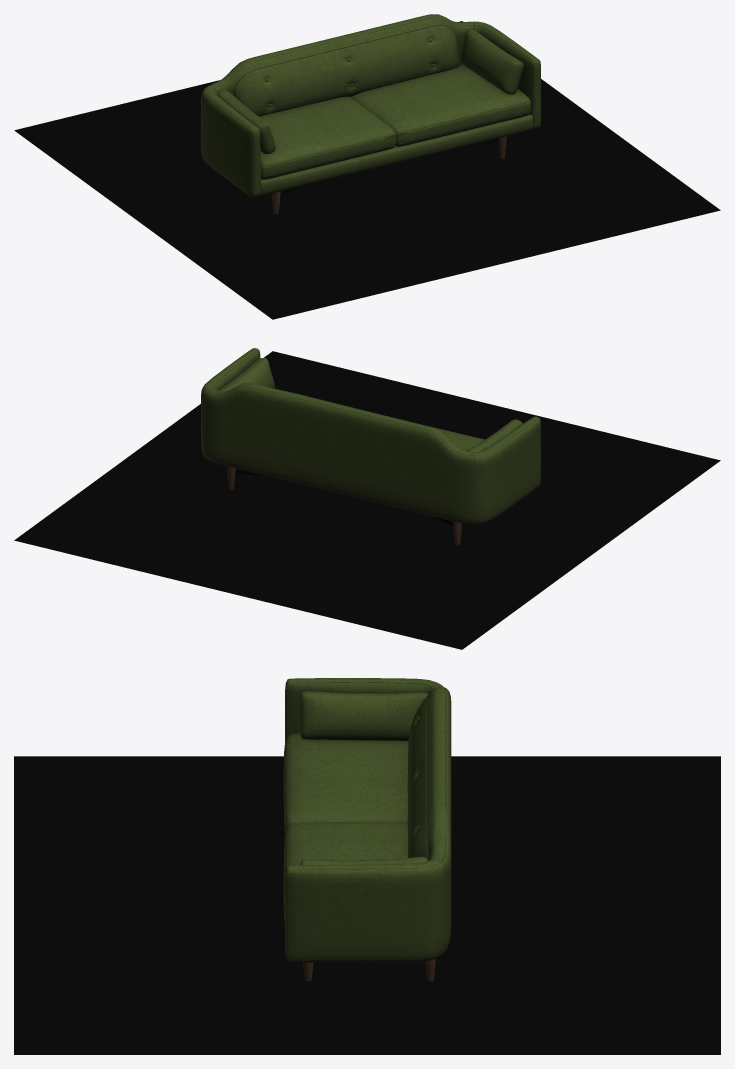
Rendered from imani_3_seater_sofa_grass_cotton_velvet.glb.
3 views of the same model, one above another, from view 1: azimuth 30°, elevation 25°; view 2: azimuth 150°, elevation 25°; view 3: azimuth 270°, elevation 25° (orthographic). The views are drawn at different scales.
Parts seen in each view (by area): view 1: Plane001, VELVET001; view 2: Plane001, VELVET001, WOOD001; view 3: Plane001, VELVET001.
Boxes of the visible parts, left/top/right/bottom form: Plane001: left=14, top=21, right=720, bottom=319; VELVET001: left=201, top=14, right=540, bottom=197; Plane001: left=14, top=351, right=720, bottom=649; VELVET001: left=201, top=348, right=540, bottom=524; WOOD001: left=226, top=466, right=461, bottom=545; Plane001: left=14, top=756, right=720, bottom=1054; VELVET001: left=283, top=678, right=451, bottom=962.
Bounding box in the file's own units: 334 × 81.1 × 334.
4 materials, 4 textured.
